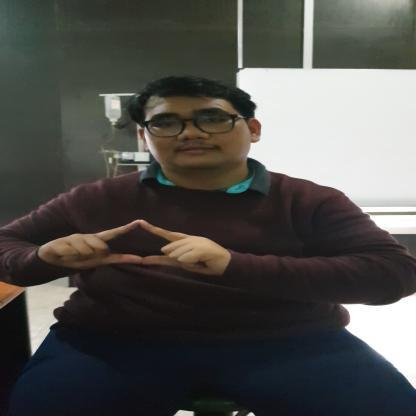A: (38, 218, 233, 276)
